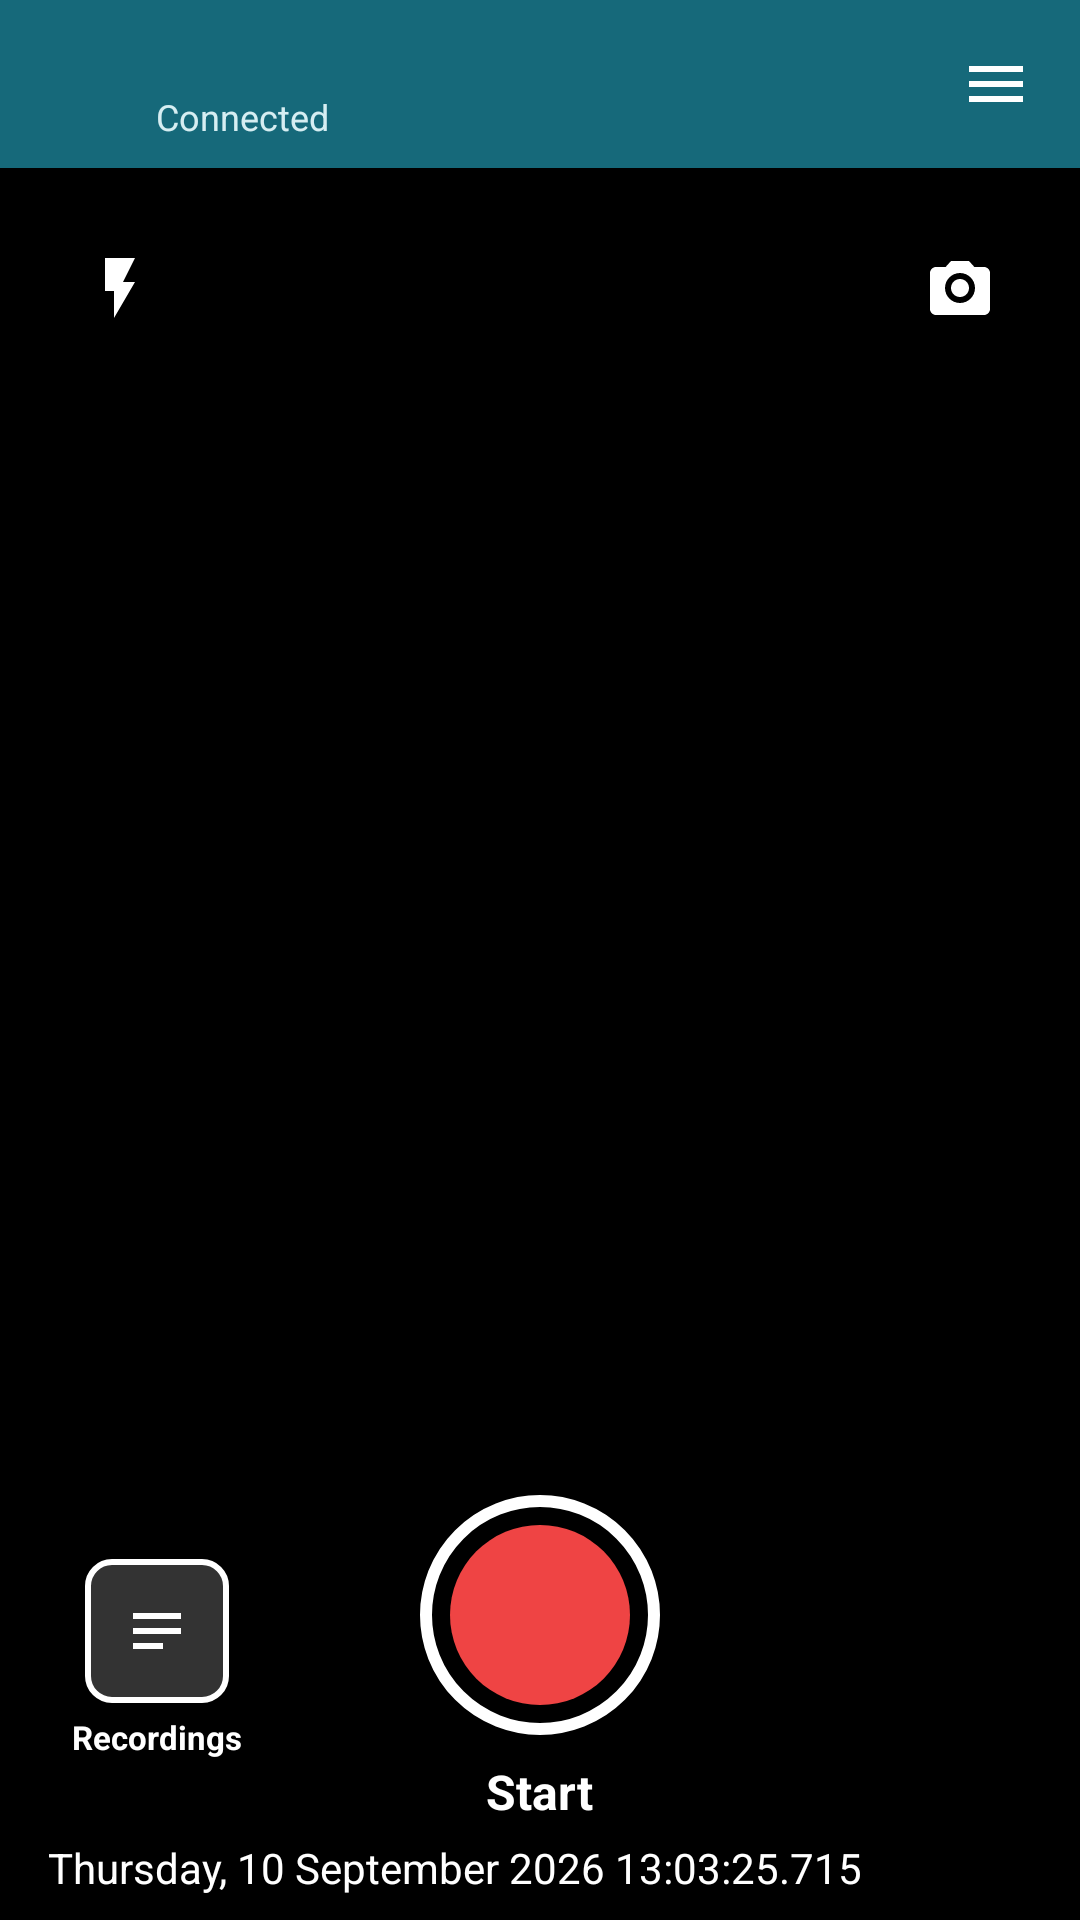

Point at icon controls on the screen. Image size 1080*1920, points as [x,y].
Flash: [120,288]
